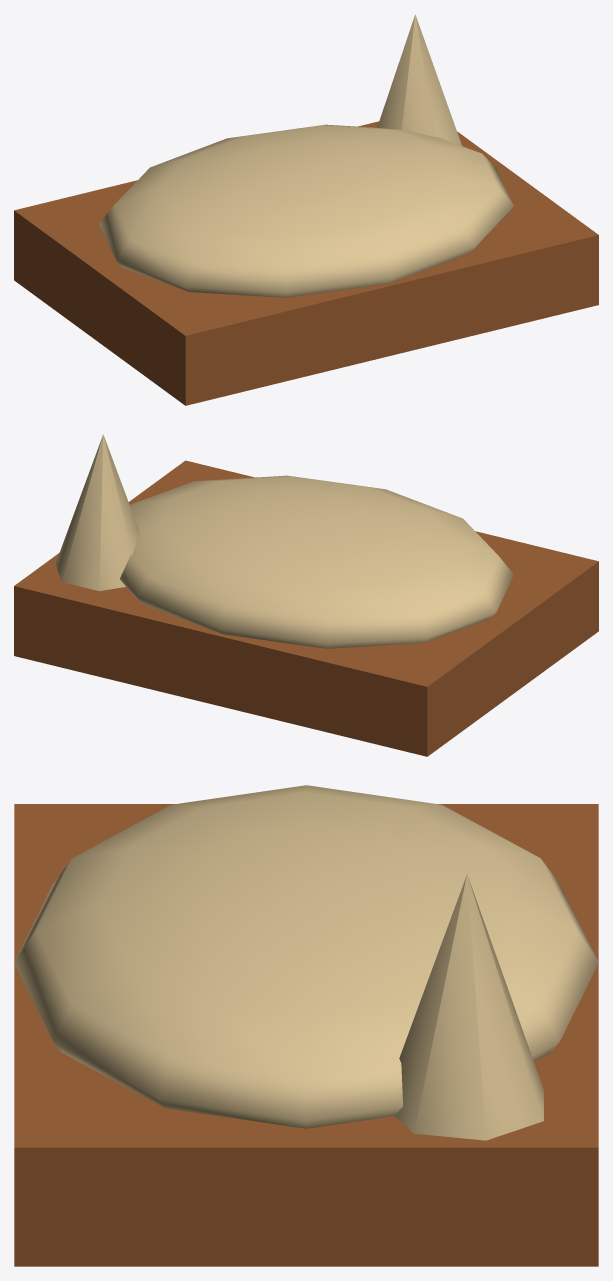
The model's file is home.glb.
The picture shows the model from 3 angles, top to bottom: view 1: azimuth 30°, elevation 25°; view 2: azimuth 150°, elevation 25°; view 3: azimuth 270°, elevation 25°; orthographic projection. The views are drawn at different scales.
Visible parts, largest first — view 1: home_base, home_cushion, home_marker; view 2: home_base, home_cushion, home_marker; view 3: home_cushion, home_base, home_marker.
Part boxes in pixels (bbox=[...]): home_base: bbox=[14, 121, 598, 405]; home_cushion: bbox=[99, 124, 513, 297]; home_marker: bbox=[377, 14, 461, 145]; home_base: bbox=[14, 460, 598, 756]; home_cushion: bbox=[120, 475, 513, 648]; home_marker: bbox=[55, 434, 139, 591]; home_cushion: bbox=[14, 785, 598, 1128]; home_base: bbox=[14, 804, 598, 1266]; home_marker: bbox=[394, 874, 543, 1140].
Size of the model in its own units: 1.11 by 0.53 by 0.801.
